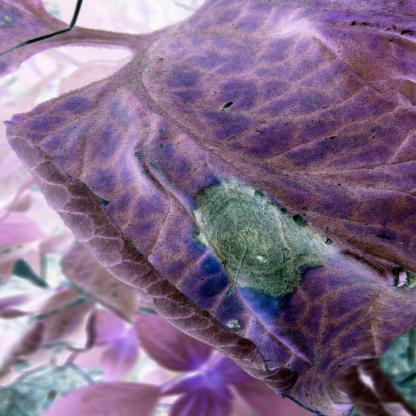tomato early blight leaf: (197, 22, 416, 164)
